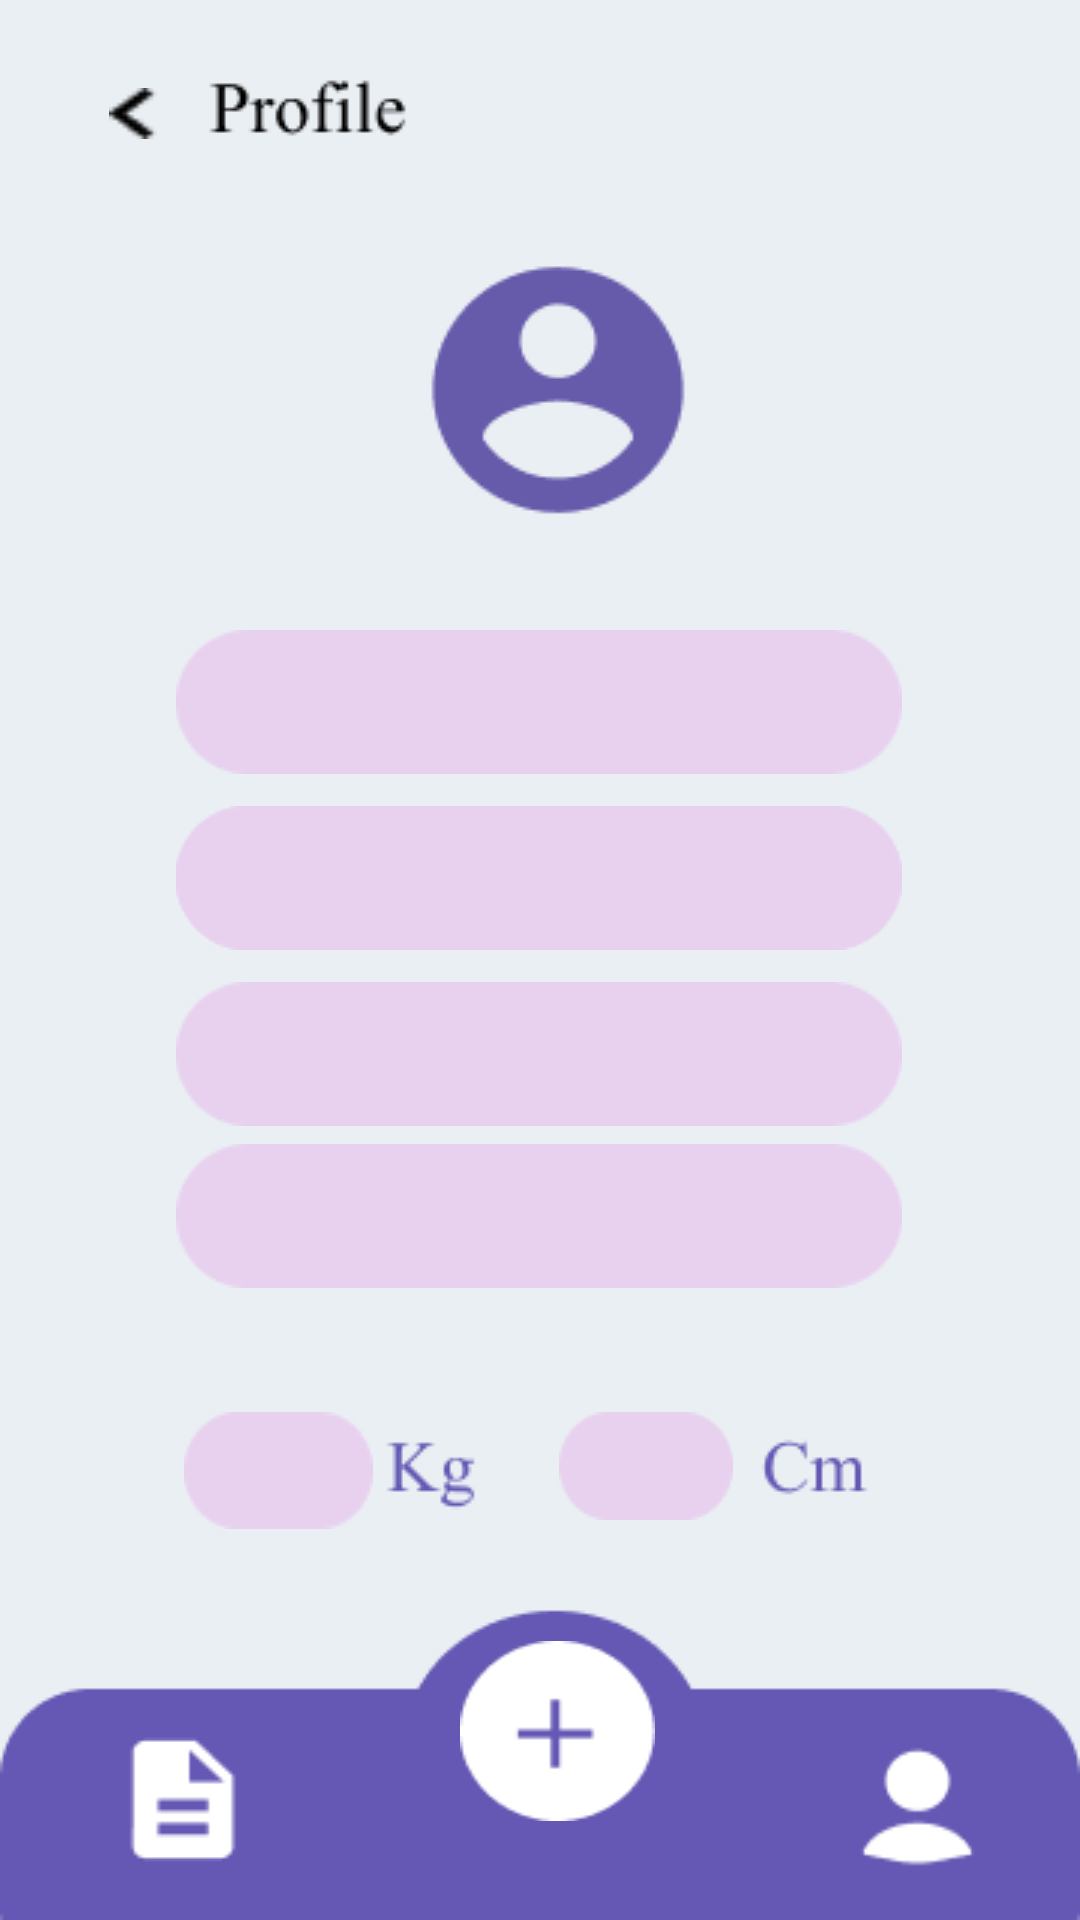

Icons on this 1080 × 1920 Android screen, each with its box as box(x1, y1, x2, y2):
description: box(130, 1740, 235, 1859)
plus: box(460, 1641, 655, 1821)
